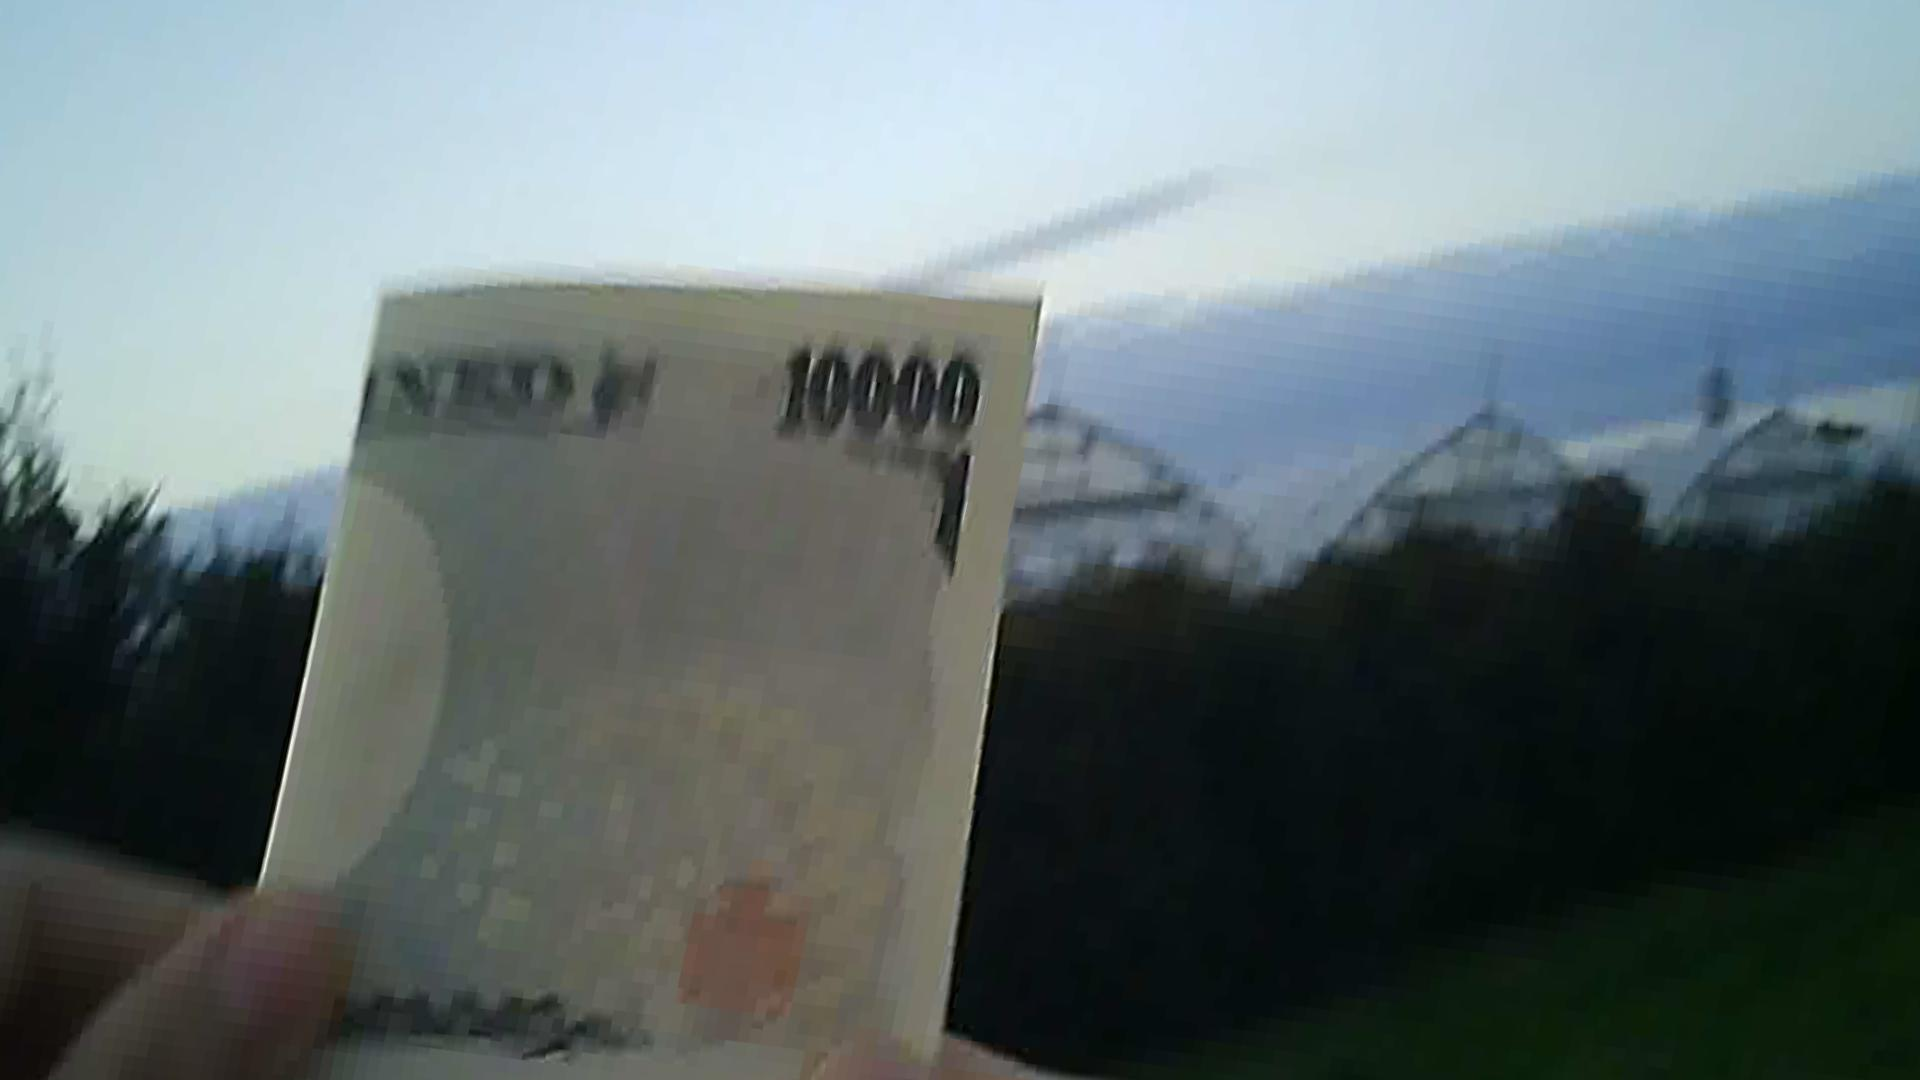10,000 Yen: (247, 272, 1050, 1065)
